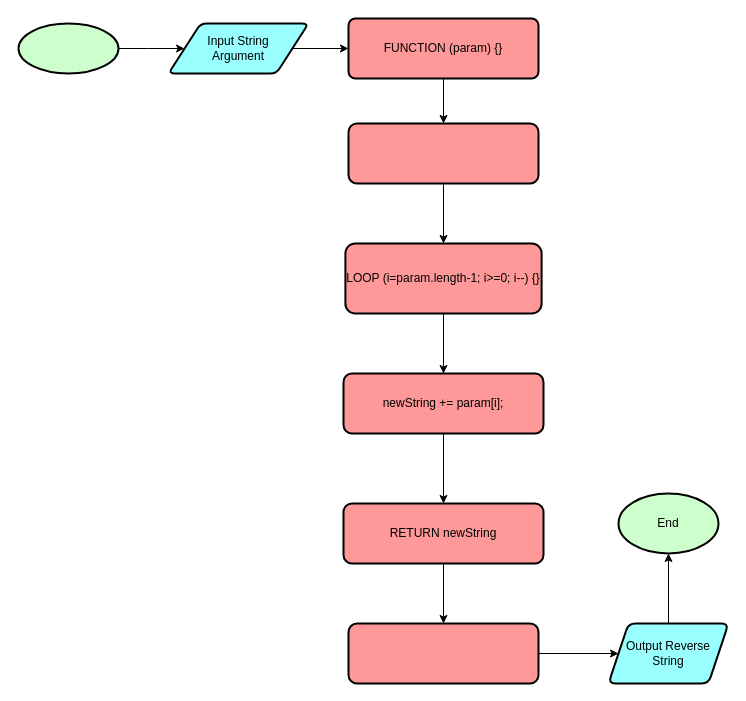
Some shapes in this 746 by 701 pixel diagram are drawn without their labels. Each missing label, with the centre of its shape:
newString = " ": (443,153)
PRINT Function: (443,653)
Start: (68,48)
